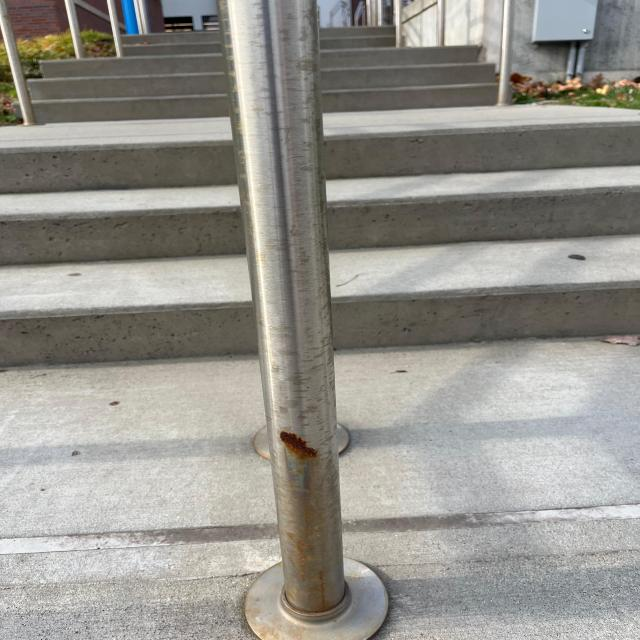Uniform Corrosion: (246, 1, 389, 640)
